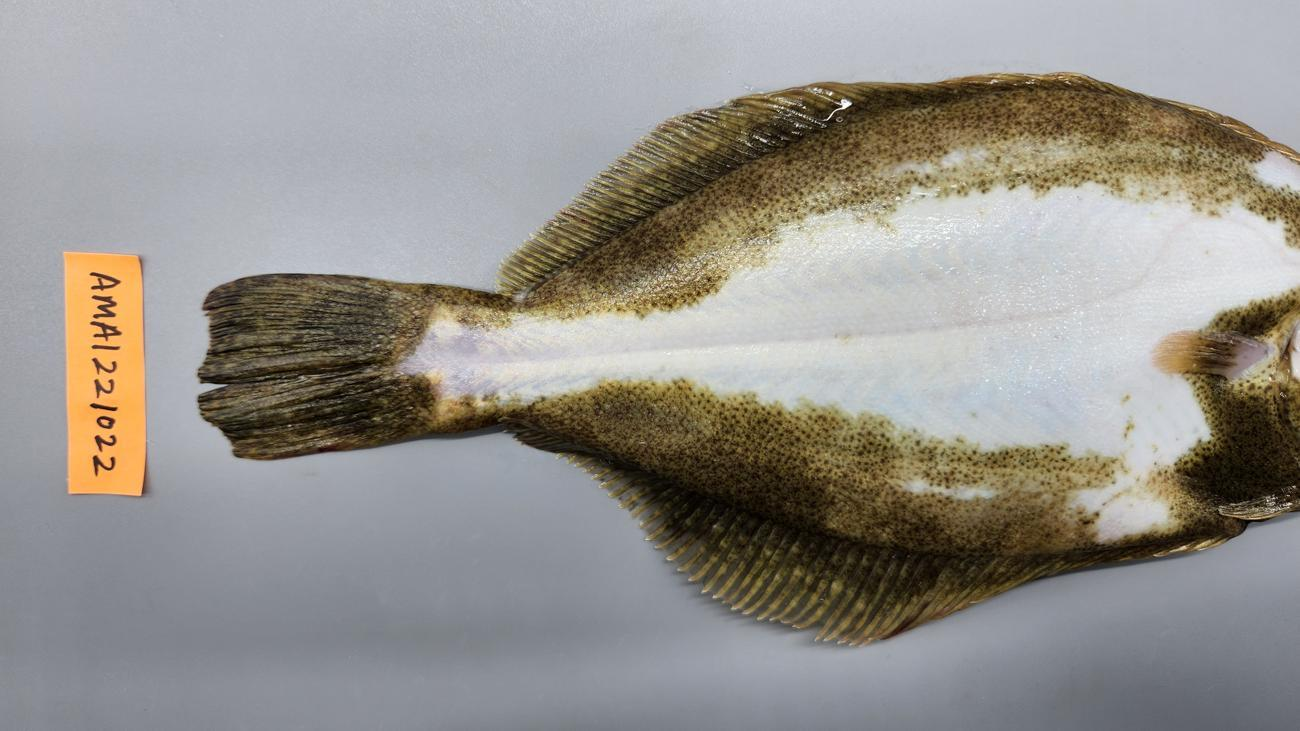MAFDH: (654, 81, 872, 171)
